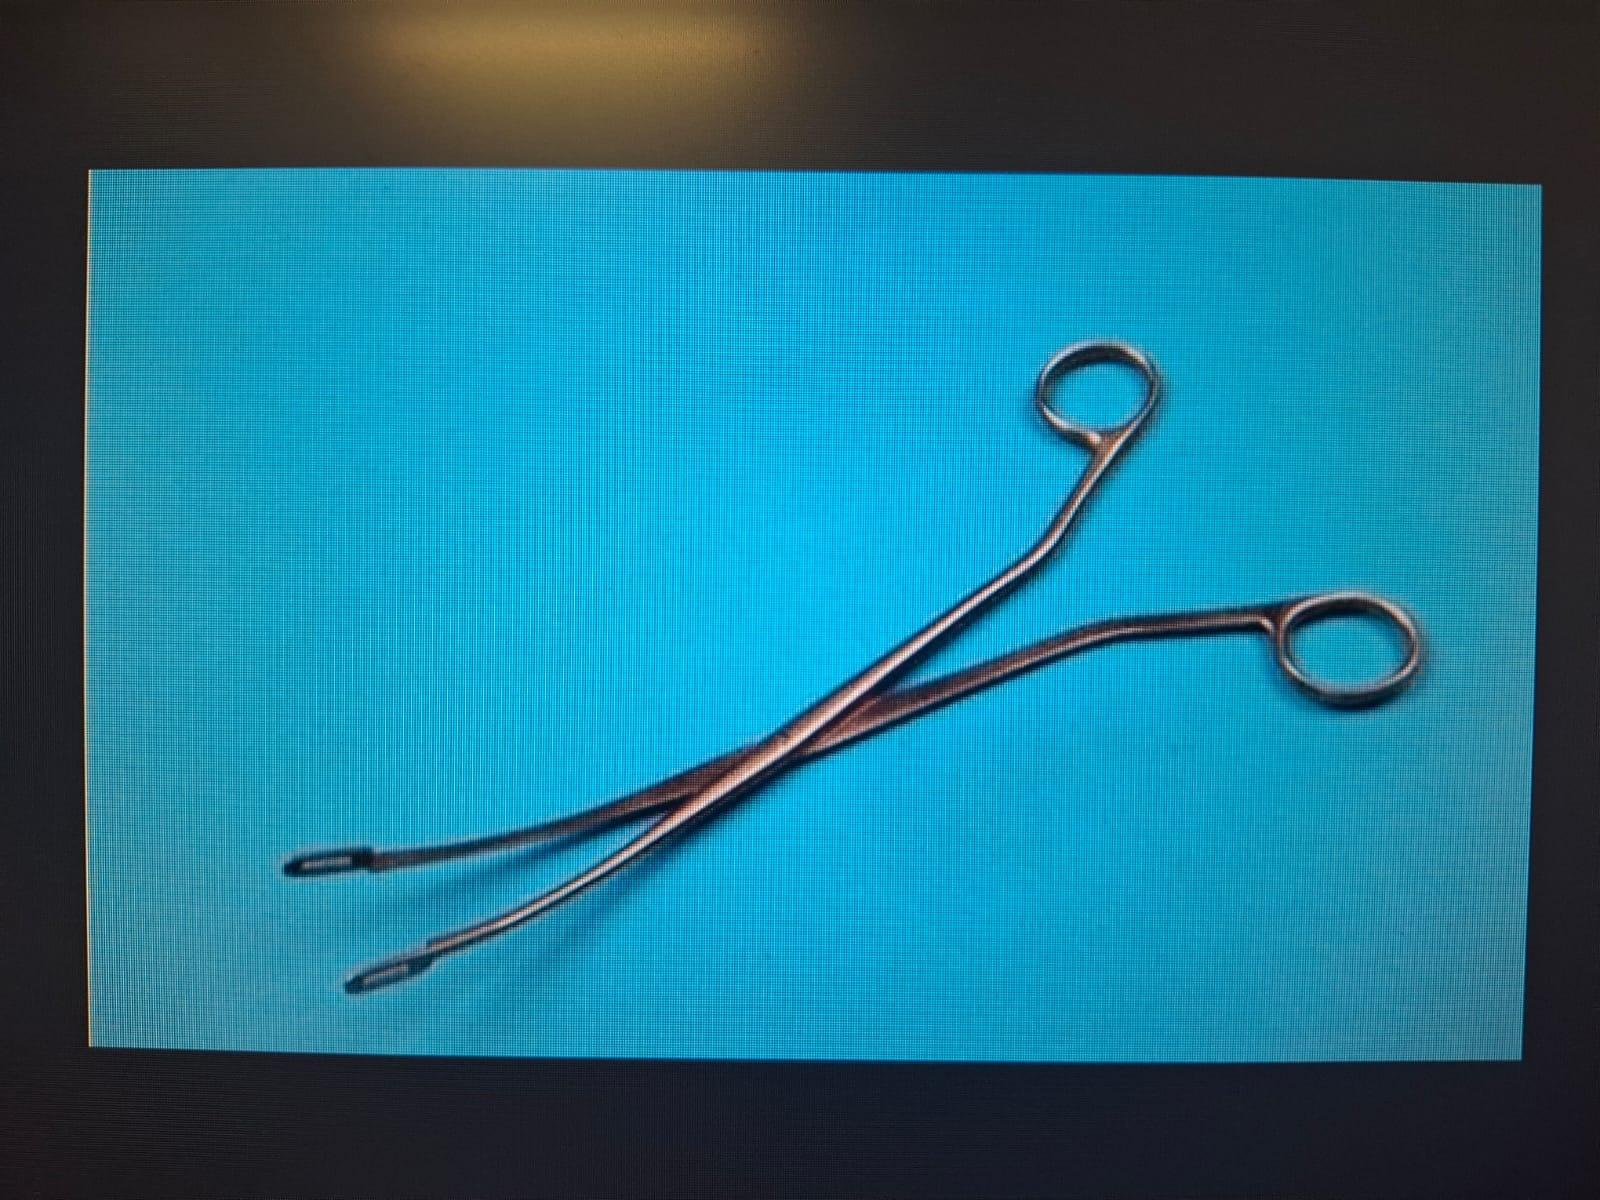Desjardin Forceps: (266, 324, 1446, 1010)
